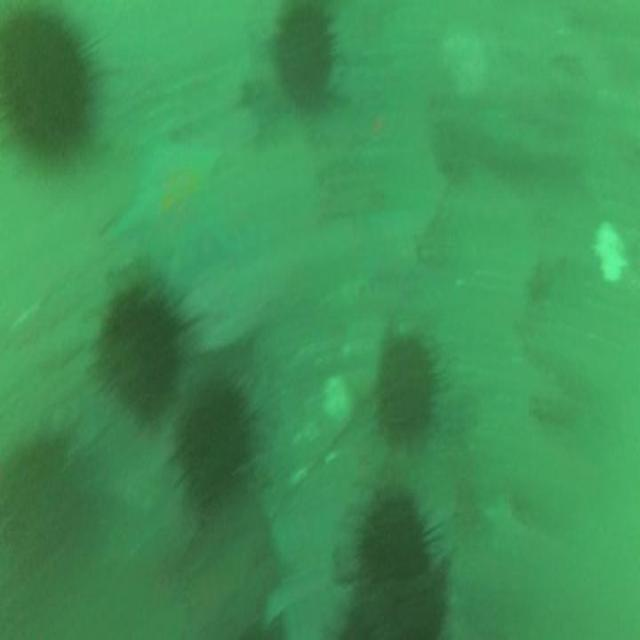echinus: (355, 491, 439, 640), (2, 16, 87, 150), (96, 298, 181, 416), (176, 376, 249, 503), (274, 9, 338, 108), (378, 336, 434, 441)
starfish: (110, 139, 238, 288)
